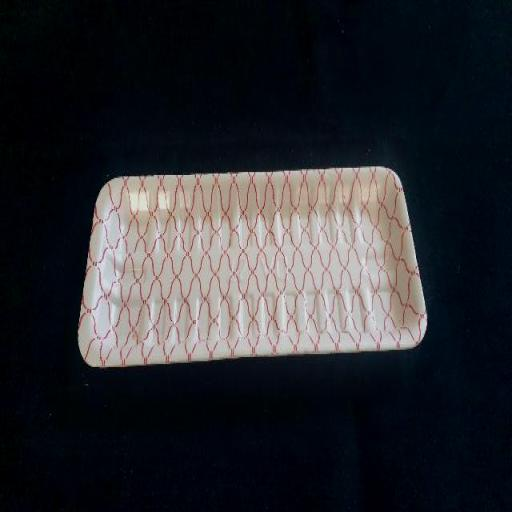styrofoam: (79, 166, 426, 366)
